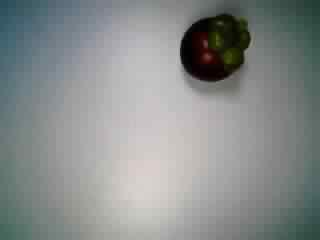mangosteen: (175, 9, 253, 86)
